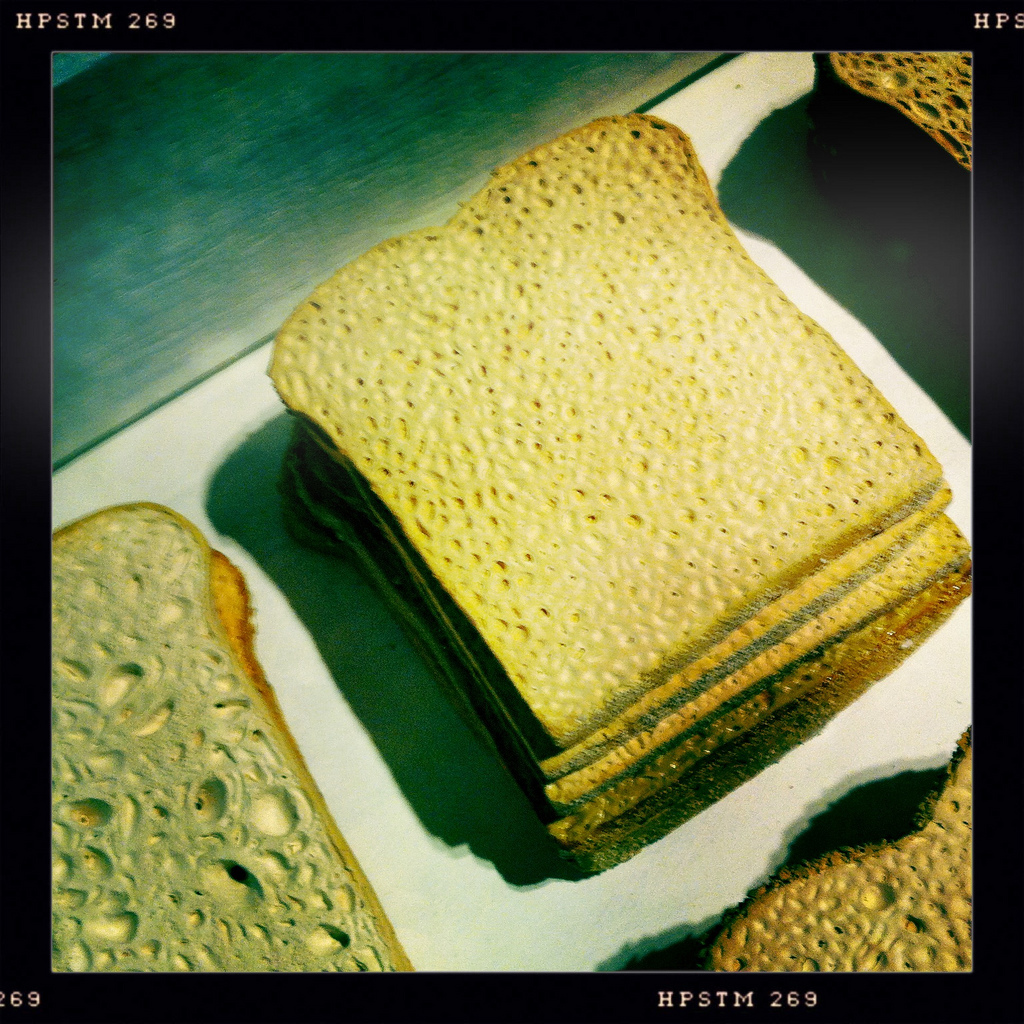slice of bread: (262, 126, 974, 859)
